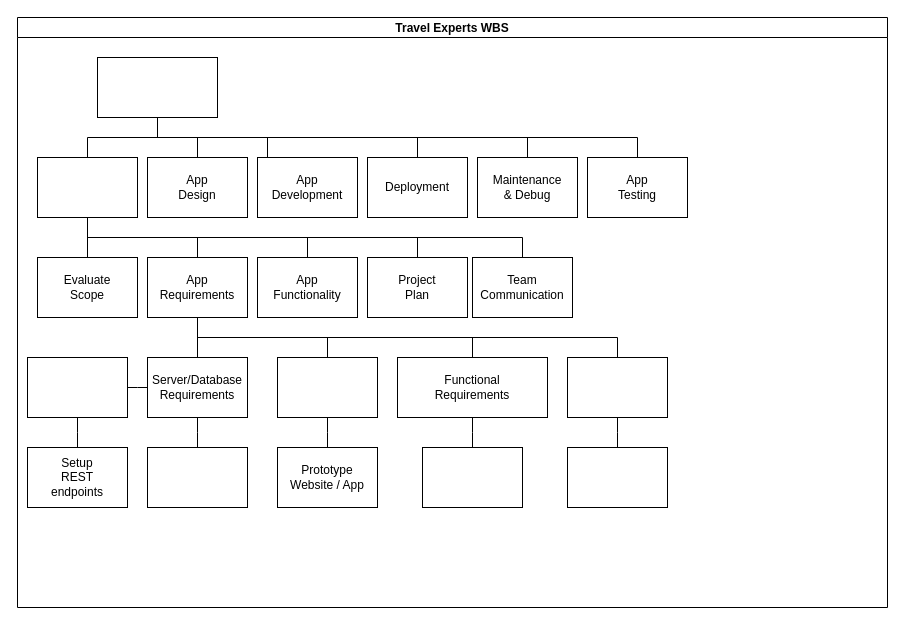
Image size: 905x625. Some labels were removed from this diagram. The centre of each missing label's shape, as x and y in pixels:
"Business Requirements" belongs at (x=327, y=387).
"Client - Product Meetups" belongs at (x=617, y=477).
"Concept" belongs at (x=87, y=187).
"Implement API & Features Required" belongs at (x=472, y=477).
"Setup MySQL Database" belongs at (x=197, y=477).
"Setup NodeJS Express" belongs at (x=77, y=387).
"Travel Experts Application" belongs at (x=157, y=87).
"User/Client Requirements" belongs at (x=617, y=387).
